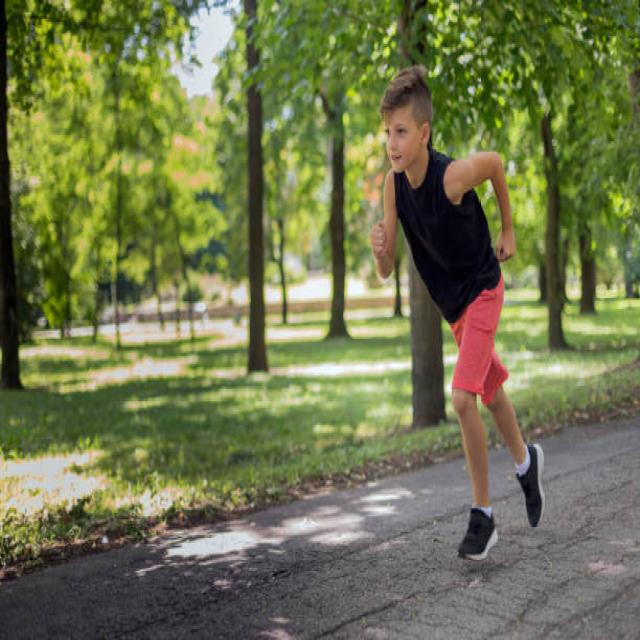Person: (370, 67, 544, 560)
